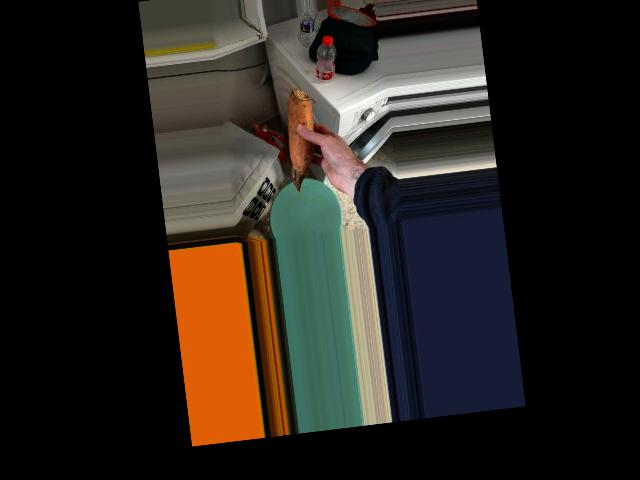sweet_potato: (279, 82, 329, 193)
